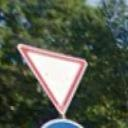preferencia: (15, 41, 92, 114)
